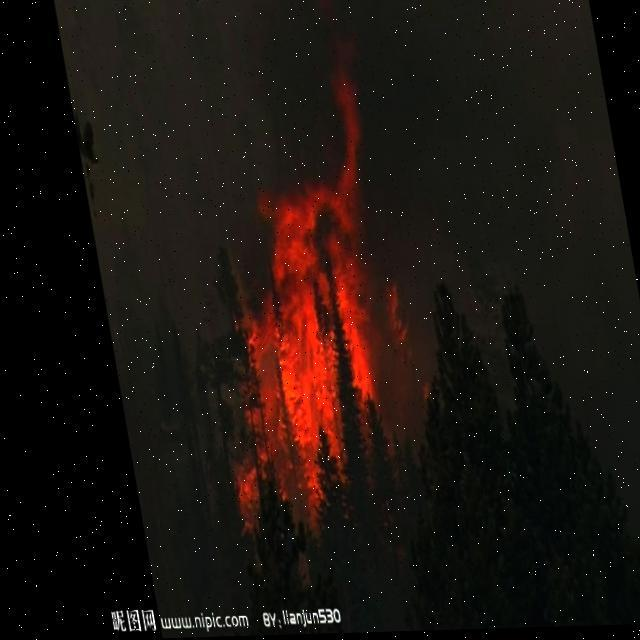Fire: (172, 146, 394, 528)
